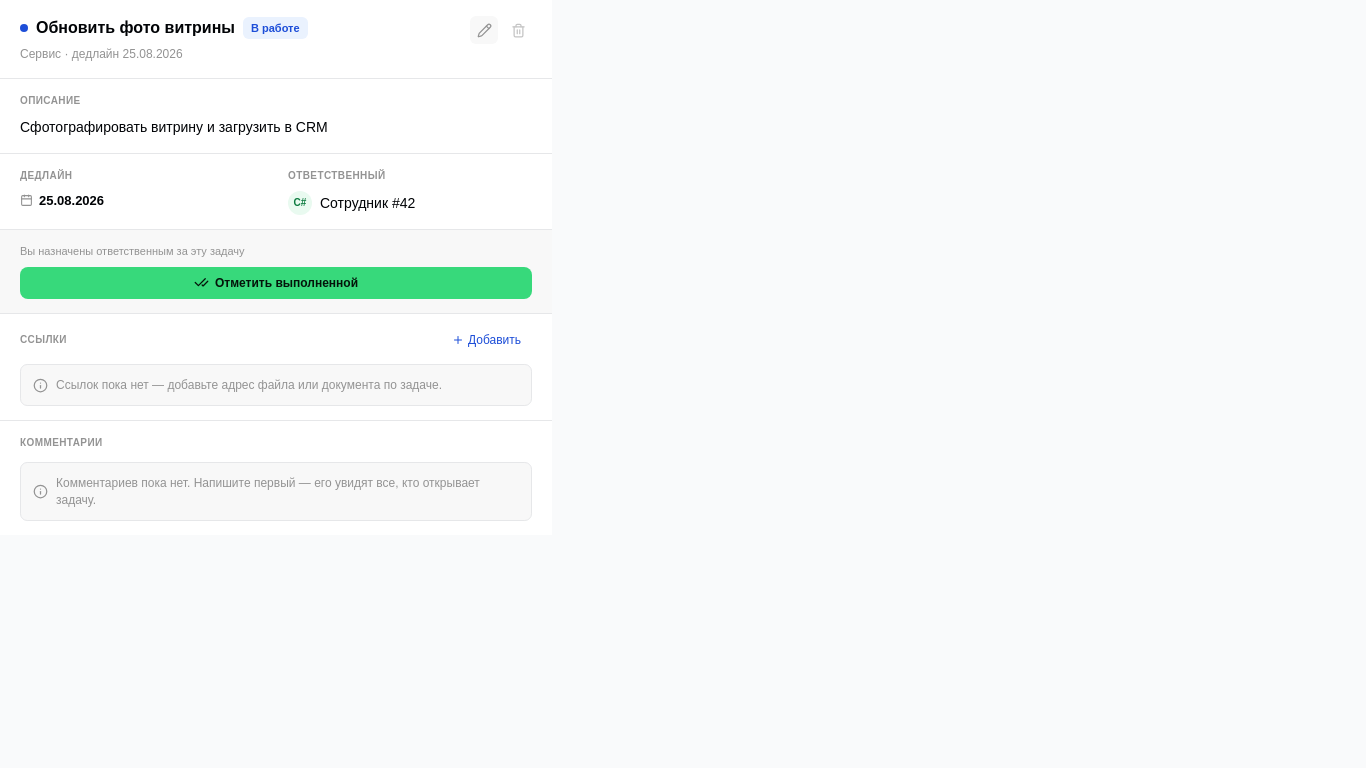
TaskStatusControl › удаление задачи (delete-task-frontend) › клик по кнопке «Удалить» открывает DeleteTaskDialog
Expected: the heading "Обновить фото витрины" is shown, [36,16,235,40]
Click the button named "Удалить задачу". click: (518, 30)
box: [504,16,532,44]
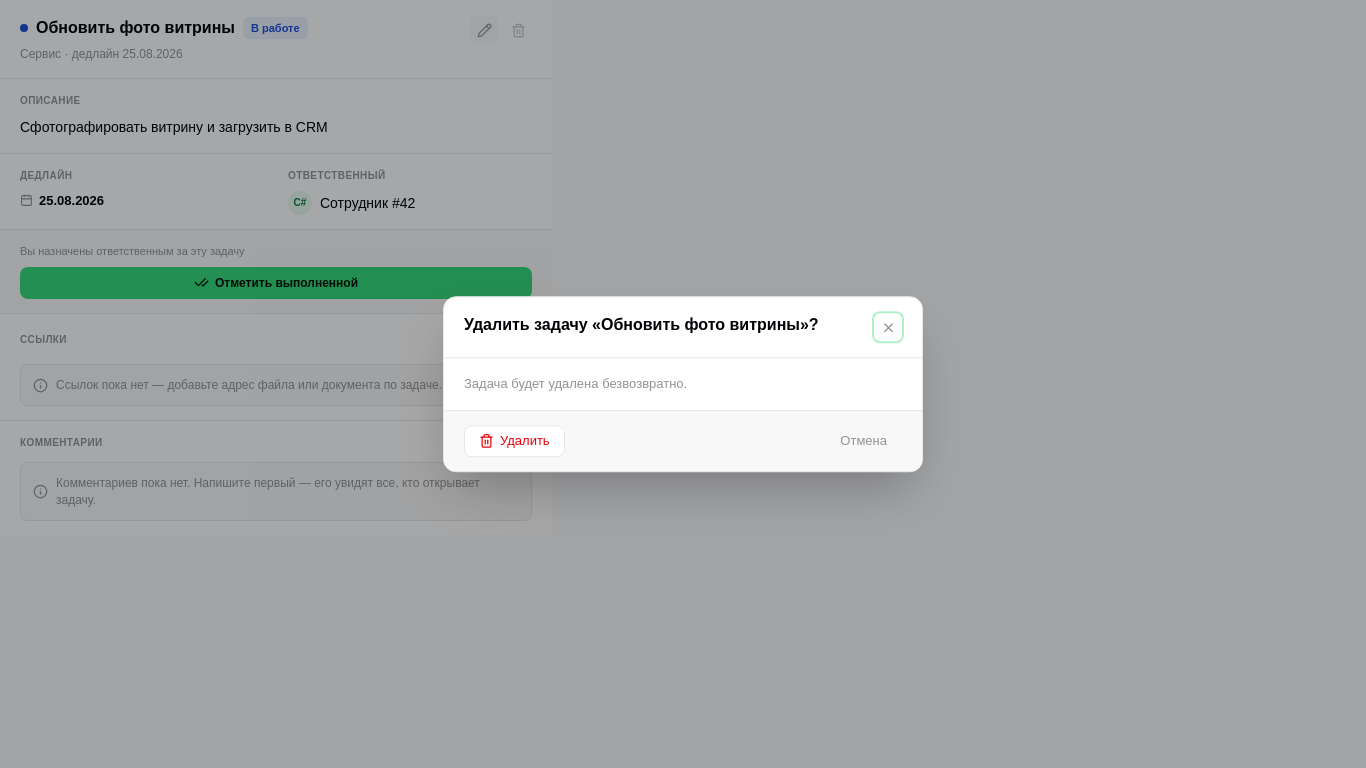
Expected: the heading "Удалить задачу «Обновить фото витрины»?" is shown, [464,313,819,337]
